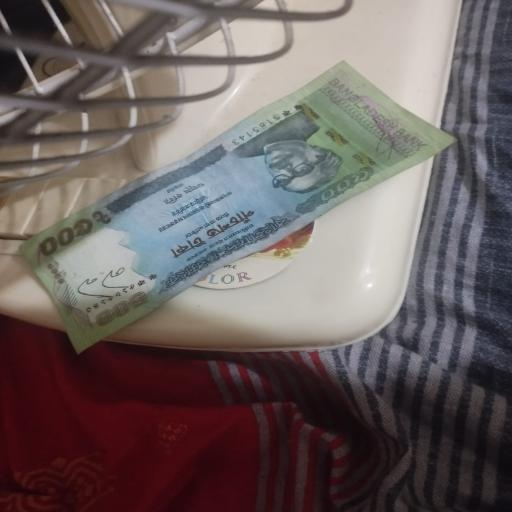500taka: (14, 60, 461, 350)
